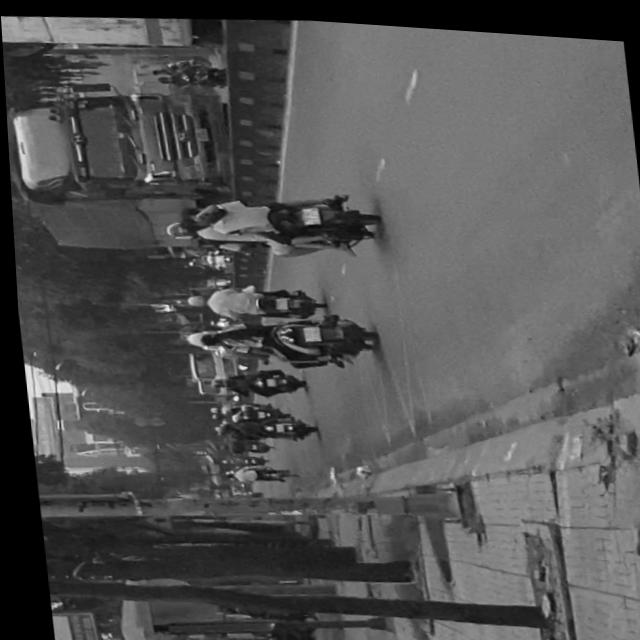helmet: (158, 217, 196, 239)
licenseplate: (153, 175, 381, 263), (173, 296, 383, 379)
motorcyclist: (193, 329, 223, 346)
nohelmet: (296, 203, 316, 222), (297, 321, 317, 338)
